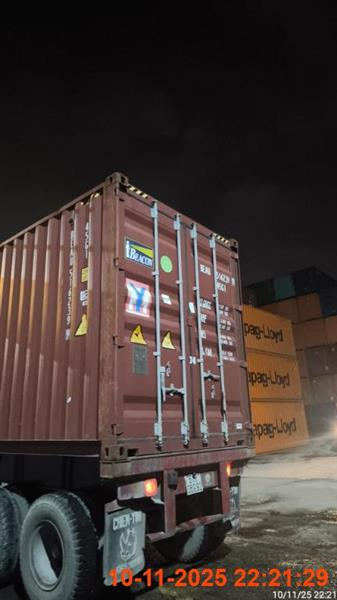broken: (0, 173, 256, 599)
